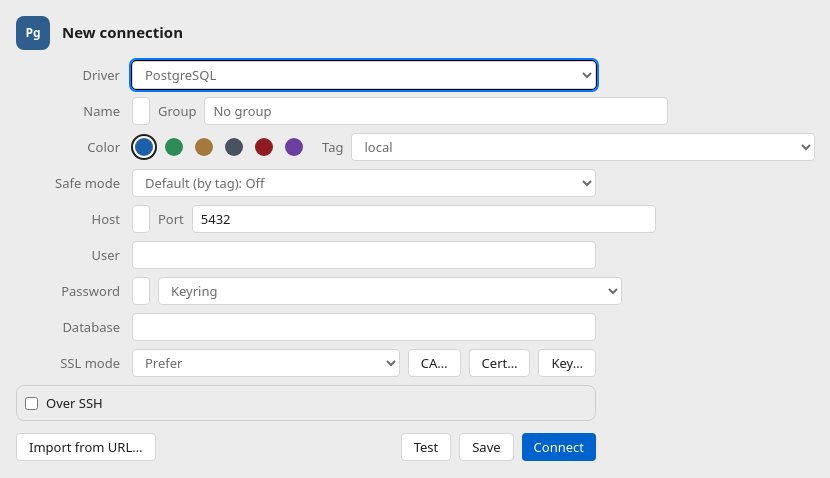
Test: sqlite hides host fields and shows file path
The width and height of the screenshot is (830, 478).
Step 1. Select "SQLite" in the dropdown labelled "Driver" → (364, 75), box [132,61,596,89]
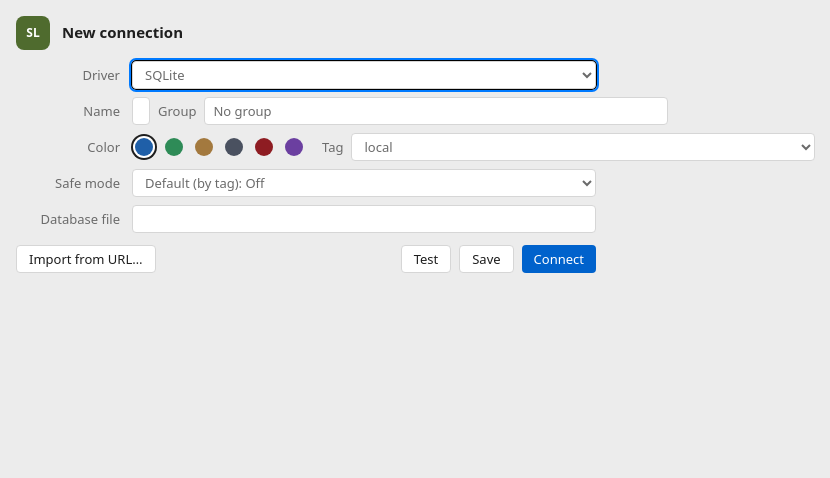
Expected: the label labelled "Host" is gone
Expected: the field labelled "Database file" is shown, [132,205,596,233]
